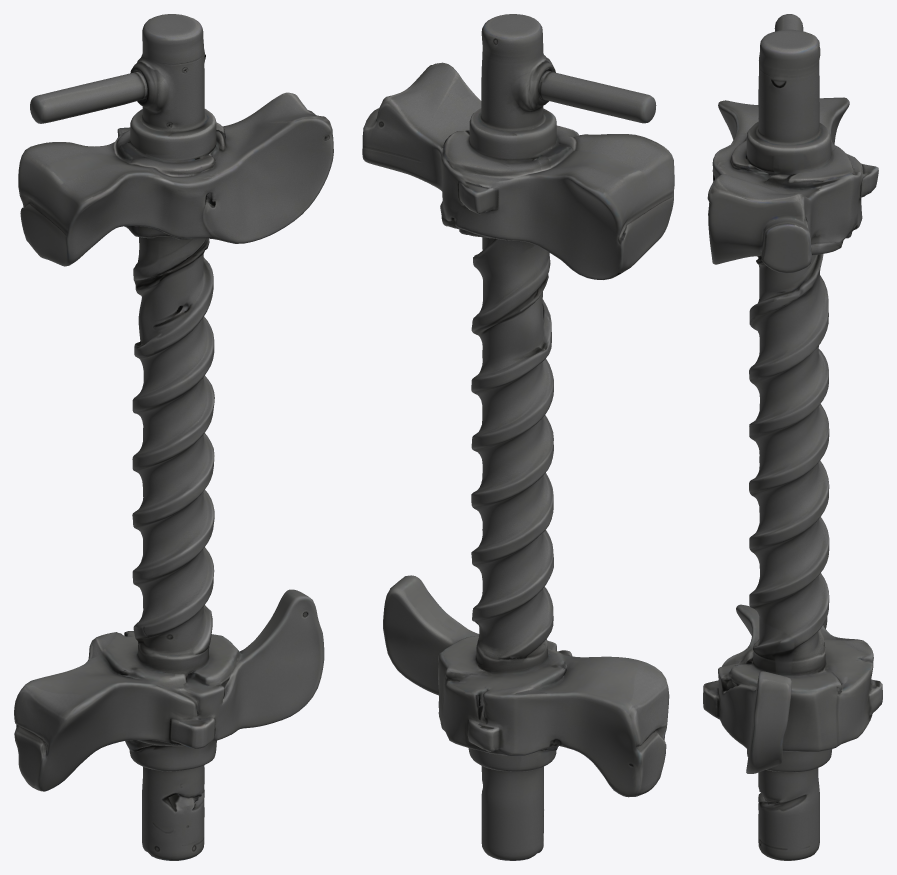
File: scroll compressor crankshaft 3d model.glb
3 renders of one model, left to right at view 1: azimuth 30°, elevation 25°; view 2: azimuth 150°, elevation 25°; view 3: azimuth 270°, elevation 25°, orthographic.
Visible parts, largest first — view 1: tripo_node_3335c0e4-7af8-4e28-a4f9-3e6132522380; view 2: tripo_node_3335c0e4-7af8-4e28-a4f9-3e6132522380; view 3: tripo_node_3335c0e4-7af8-4e28-a4f9-3e6132522380.
Boxes of the visible parts, x1,y1,x2,y2 form: tripo_node_3335c0e4-7af8-4e28-a4f9-3e6132522380: (14,14,333,860); tripo_node_3335c0e4-7af8-4e28-a4f9-3e6132522380: (362,14,674,860); tripo_node_3335c0e4-7af8-4e28-a4f9-3e6132522380: (703,14,882,860).
Bounding box in the file's own units: 0.3539 × 0.9807 × 0.1971.
1 material, 1 textured.
